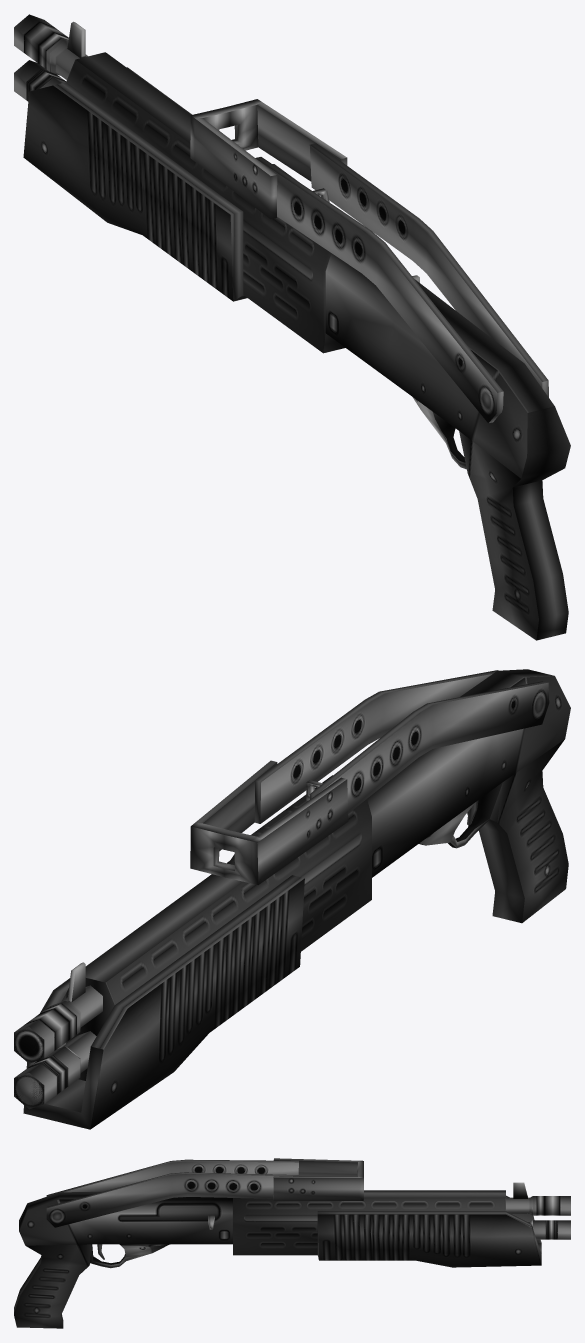
File: spas.glb
3 views of the same model, one above another, from view 1: azimuth 30°, elevation 25°; view 2: azimuth 150°, elevation 25°; view 3: azimuth 270°, elevation 25° (orthographic). The views are drawn at different scales.
Parts seen in each view (by area): view 1: body, mover_pump; view 2: body, mover_pump; view 3: body, mover_pump.
Part boxes in pixels (box(x1,y1,x2,y2)): body: box(14, 14, 570, 640); mover_pump: box(23, 67, 247, 301); body: box(14, 669, 570, 1109); mover_pump: box(23, 861, 304, 1129); body: box(14, 1158, 570, 1328); mover_pump: box(317, 1195, 541, 1267).
Size of the model in its own units: 0.0591 by 0.1877 by 0.5997.
Materials: 1 (1 with a texture image).
